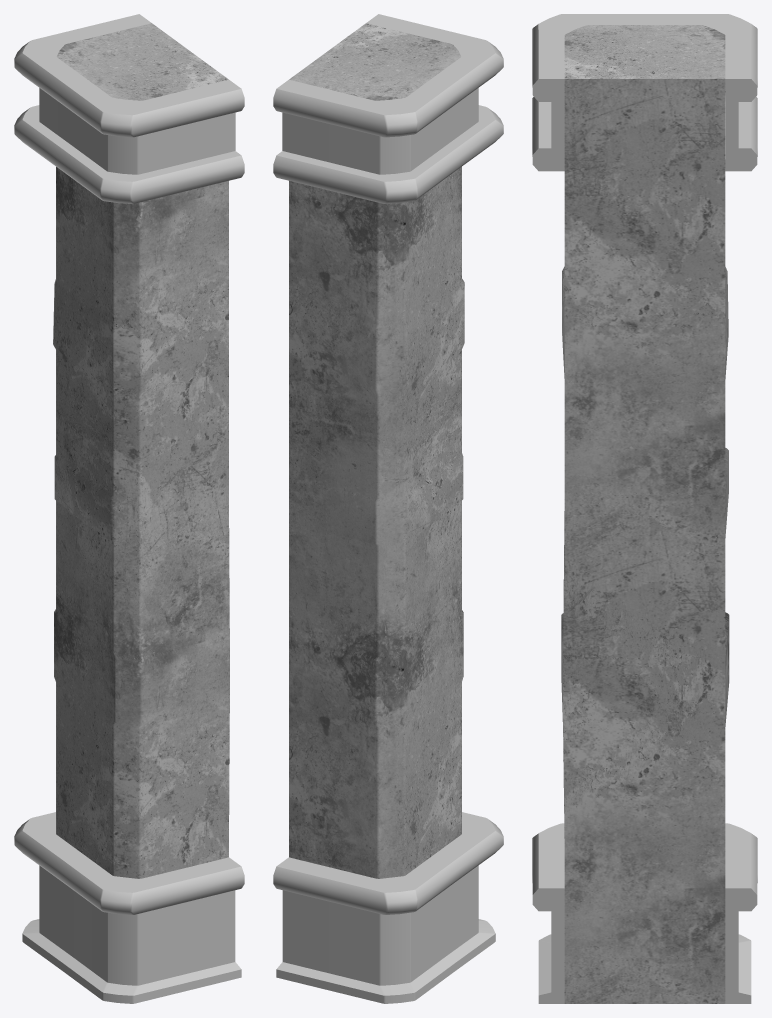
Rendered from SM_Wallkit_Pillar_01b.fbx.
3 renders of one model, left to right at view 1: azimuth 30°, elevation 25°; view 2: azimuth 150°, elevation 25°; view 3: azimuth 270°, elevation 25°, orthographic. The views are drawn at different scales.
Visible parts, largest first — view 1: SM_Wallkit_Pillar_01b_LOD0; view 2: SM_Wallkit_Pillar_01b_LOD0; view 3: SM_Wallkit_Pillar_01b_LOD0.
Part boxes in pixels (<box>): SM_Wallkit_Pillar_01b_LOD0: <box>14,14,244,1003</box>; SM_Wallkit_Pillar_01b_LOD0: <box>273,14,503,1003</box>; SM_Wallkit_Pillar_01b_LOD0: <box>532,14,757,1003</box>.
Bounding box in the file's own units: 125 × 177 × 800.
